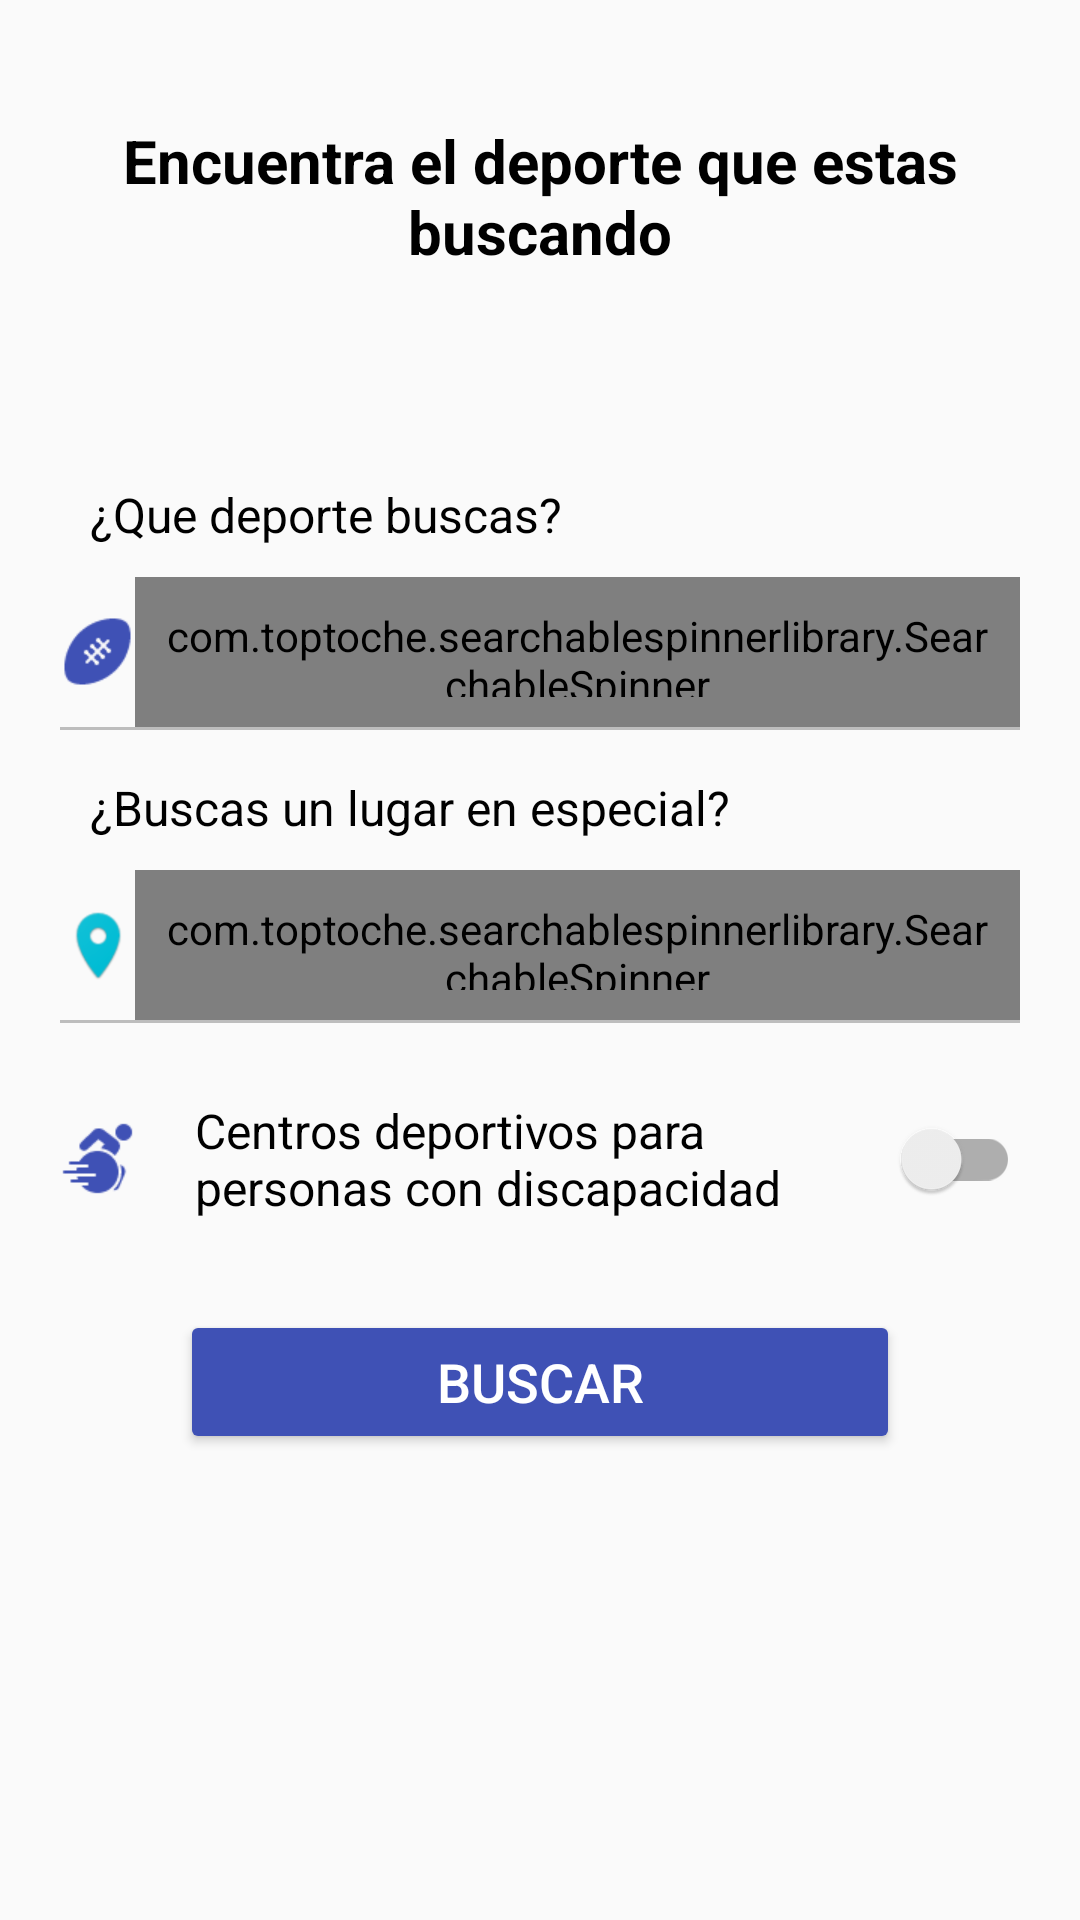

Named icons in this screenshot (1080*1920) and their bounding boxes, (x1, y1, x2, y2):
address: (76, 912, 121, 979)
discapacidad azul: (62, 1123, 133, 1194)
pelota azul: (64, 618, 131, 685)
